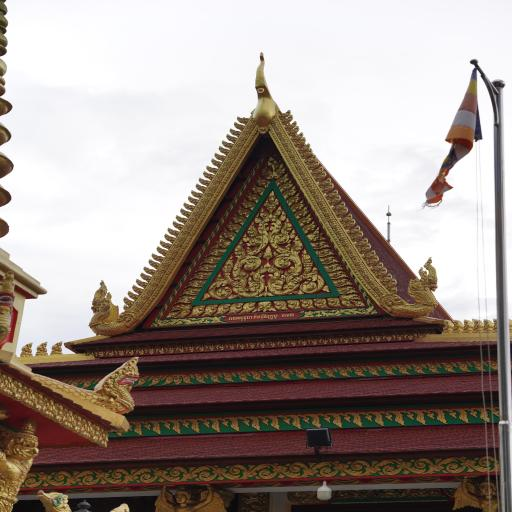la: (258, 158, 287, 180), (168, 304, 192, 319), (282, 185, 302, 201), (338, 294, 362, 307), (324, 269, 350, 281), (274, 172, 294, 187), (193, 263, 223, 273), (210, 234, 231, 248), (296, 214, 316, 228), (304, 231, 329, 242), (307, 226, 324, 242), (233, 205, 252, 219), (308, 239, 330, 251), (219, 228, 239, 241), (320, 263, 348, 272), (315, 256, 343, 265), (240, 198, 258, 212), (244, 191, 263, 204), (182, 279, 209, 288), (300, 218, 316, 233), (308, 296, 326, 309), (175, 295, 200, 304), (227, 300, 243, 314), (294, 206, 310, 220), (290, 199, 306, 213), (188, 272, 216, 280), (256, 301, 276, 312), (230, 213, 250, 224), (335, 286, 359, 295), (287, 195, 305, 207), (249, 184, 267, 196), (224, 220, 242, 232), (256, 175, 272, 188), (330, 279, 353, 288), (324, 297, 344, 307), (271, 300, 289, 311), (240, 300, 254, 314), (190, 304, 205, 317), (285, 299, 301, 311), (179, 288, 203, 296), (315, 248, 336, 257), (206, 248, 228, 256), (201, 256, 223, 264), (299, 298, 316, 308), (204, 304, 218, 316), (216, 302, 230, 314), (280, 178, 292, 192)
lua: (248, 51, 284, 131), (372, 269, 391, 282), (289, 135, 308, 147), (200, 170, 217, 183), (296, 146, 314, 158), (174, 212, 188, 227), (196, 176, 213, 188), (348, 229, 365, 241), (308, 170, 328, 180), (292, 141, 310, 152), (178, 206, 192, 220), (162, 232, 178, 244), (149, 252, 166, 263), (147, 258, 162, 270), (218, 139, 236, 149), (282, 125, 300, 135), (299, 153, 317, 163), (309, 163, 324, 175), (315, 176, 331, 187), (316, 182, 332, 193), (340, 218, 356, 229), (384, 278, 401, 288), (142, 264, 156, 276), (189, 188, 203, 200), (228, 127, 242, 139), (193, 182, 208, 193), (356, 243, 371, 254), (156, 240, 174, 249), (120, 296, 136, 306), (278, 115, 294, 125), (333, 207, 349, 217), (343, 226, 363, 234), (223, 132, 237, 143), (180, 202, 197, 211), (287, 131, 304, 140), (336, 213, 353, 222), (133, 278, 148, 288), (209, 158, 224, 168), (216, 145, 231, 155), (282, 120, 297, 130), (305, 158, 320, 168), (125, 290, 141, 299), (154, 246, 168, 256), (165, 226, 179, 236), (230, 121, 244, 131), (278, 109, 292, 119), (326, 195, 341, 204), (329, 200, 344, 209), (354, 236, 366, 247), (171, 220, 184, 230), (374, 267, 387, 277), (186, 197, 202, 205), (322, 190, 338, 198), (360, 251, 376, 259), (204, 165, 218, 174), (235, 115, 249, 124), (365, 255, 379, 264), (368, 261, 382, 270), (213, 153, 226, 162), (140, 272, 152, 280), (131, 284, 144, 291)
ran: (79, 355, 152, 417), (390, 254, 446, 320), (77, 276, 132, 337), (0, 269, 20, 350)
than: (0, 406, 37, 512), (147, 480, 239, 512), (449, 473, 508, 512)
